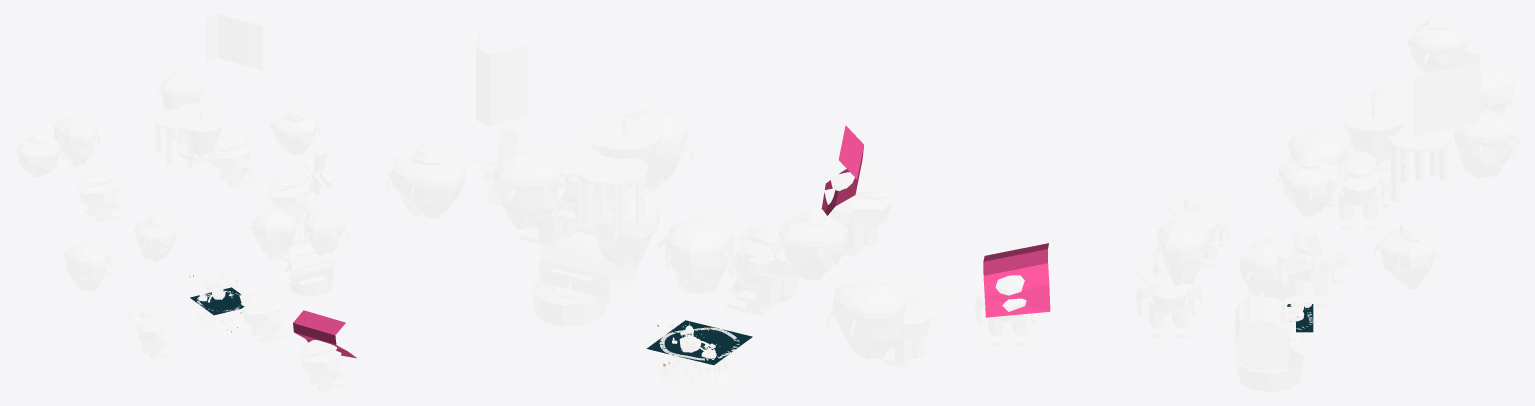
The model's file is ile-archipel-v5.glb.
3 views of the same model, side by side, from view 1: azimuth 30°, elevation 25°; view 2: azimuth 150°, elevation 25°; view 3: azimuth 270°, elevation 25° (orthographic). The views are drawn at different scales.
Visible parts, largest first — view 1: ile_anime4.024, ile_anime5.020, ile_anime9.004, ile_anime17, ile_anime8.004, ile_anime0.032, ile_anime11.004, ile_copie2.008, ile_anime15.001, ile_anime14.001, ile_anime10.004, ile_copie1.013 (+13 smaller); view 2: ile_anime5.020, ile_anime9.004, ile_anime11.004, ile_anime12.002, ile_anime10.004, ile_anime13.002, ile_anime4.024, ile_anime15.001, ile_anime17, ile_anime0.032, ile_anime2.032, ile_copie1.013 (+12 smaller); view 3: ile_anime4.024, ile_anime5.020, ile_banniere0.018, ile_copie2.008, ile_anime12.002, ile_anime14.001, ile_anime10.004, ile_anime1.032, ile_anime0.032, ile_copie0.019, ile_anime7.004, ile_anime13.002 (+11 smaller).
Boxes of the visible parts, left/top/right/bottom form: ile_anime4.024: left=206, top=14, right=262, bottom=69; ile_anime5.020: left=273, top=236, right=334, bottom=285; ile_anime9.004: left=63, top=242, right=114, bottom=291; ile_anime17: left=76, top=169, right=121, bottom=222; ile_anime8.004: left=248, top=208, right=301, bottom=259; ile_anime0.032: left=177, top=112, right=224, bottom=161; ile_anime11.004: left=54, top=116, right=100, bottom=167; ile_copie2.008: left=209, top=134, right=254, bottom=187; ile_anime15.001: left=299, top=340, right=344, bottom=391; ile_anime14.001: left=304, top=207, right=350, bottom=255; ile_anime10.004: left=270, top=107, right=320, bottom=154; ile_copie1.013: left=127, top=306, right=174, bottom=359; ile_anime5.020: left=539, top=224, right=638, bottom=303; ile_anime9.004: left=826, top=281, right=906, bottom=359; ile_anime11.004: left=658, top=216, right=734, bottom=293; ile_anime12.002: left=487, top=149, right=562, bottom=230; ile_anime10.004: left=386, top=145, right=465, bottom=218; ile_anime13.002: left=771, top=205, right=847, bottom=280; ile_anime4.024: left=476, top=24, right=526, bottom=125; ile_anime15.001: left=824, top=172, right=892, bottom=256; ile_anime17: left=736, top=222, right=797, bottom=307; ile_anime0.032: left=587, top=118, right=663, bottom=197; ile_anime2.032: left=578, top=157, right=648, bottom=235; ile_copie1.013: left=883, top=281, right=946, bottom=368; ile_anime4.024: left=1413, top=48, right=1480, bottom=136; ile_anime5.020: left=1229, top=292, right=1295, bottom=370; ile_banniere0.018: left=983, top=243, right=1050, bottom=317; ile_copie2.008: left=1325, top=151, right=1392, bottom=230; ile_anime12.002: left=1454, top=110, right=1520, bottom=178; ile_anime14.001: left=1152, top=218, right=1218, bottom=286; ile_anime10.004: left=1373, top=222, right=1440, bottom=289; ile_anime1.032: left=1387, top=123, right=1453, bottom=201; ile_anime0.032: left=1340, top=104, right=1406, bottom=171; ile_copie0.019: left=1135, top=259, right=1202, bottom=338; ile_anime7.004: left=1273, top=151, right=1339, bottom=216; ile_anime13.002: left=1407, top=14, right=1472, bottom=72.
Bounding box in the file's own units: 13.8 × 10.92 × 16.29.
